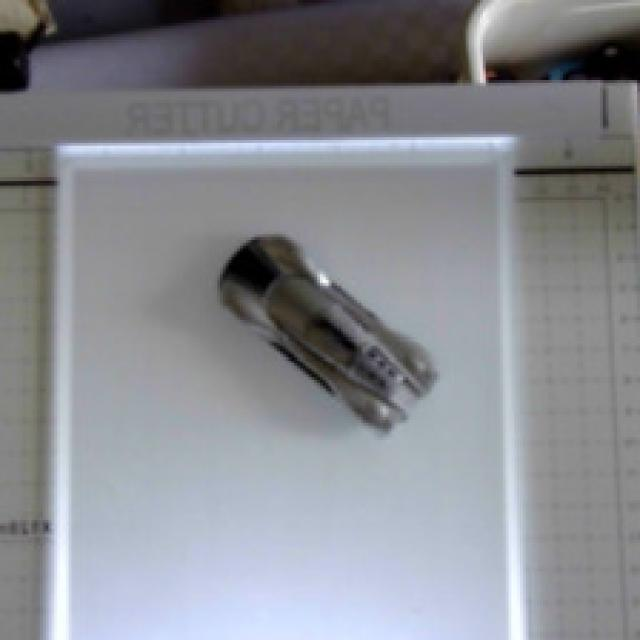Grey Car: (168, 182, 481, 481)
